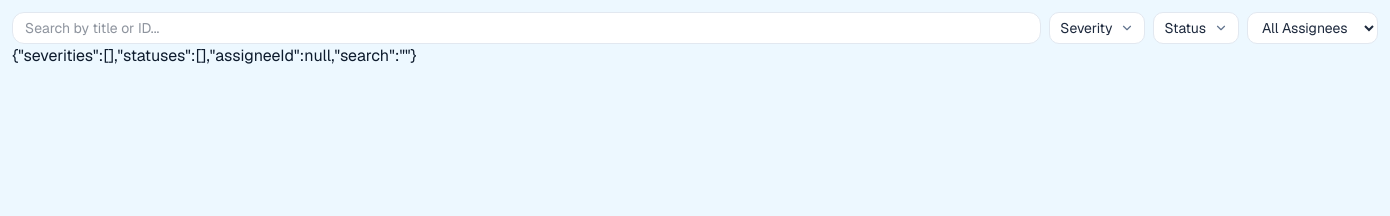
Scenario: IncidentFilters › toggles severity and clears filters
Click the button "Severity" at (1097, 28), box [1049,12,1145,44]
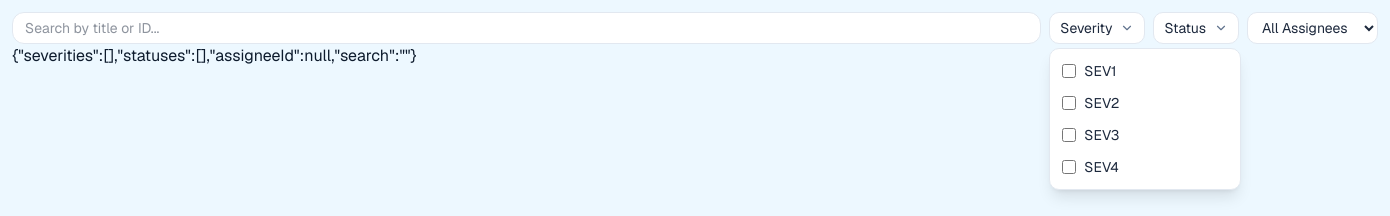
Click the checkbox labelled "SEV1" at (1069, 71), box [1062,64,1076,78]
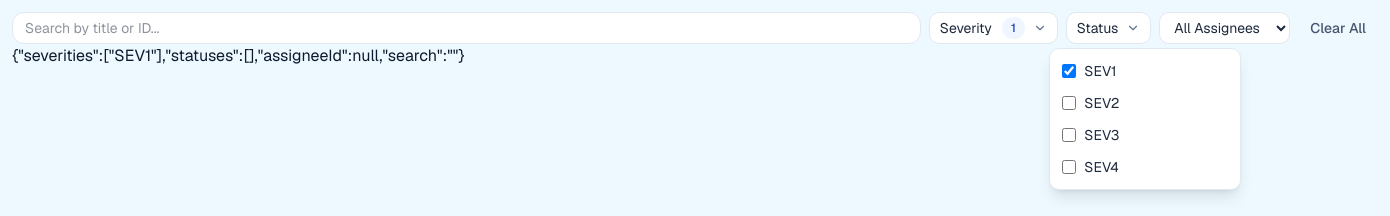
Expected: the button "Clear All" is shown
Click the button "Clear All" at (1338, 28), box [1298,12,1378,44]
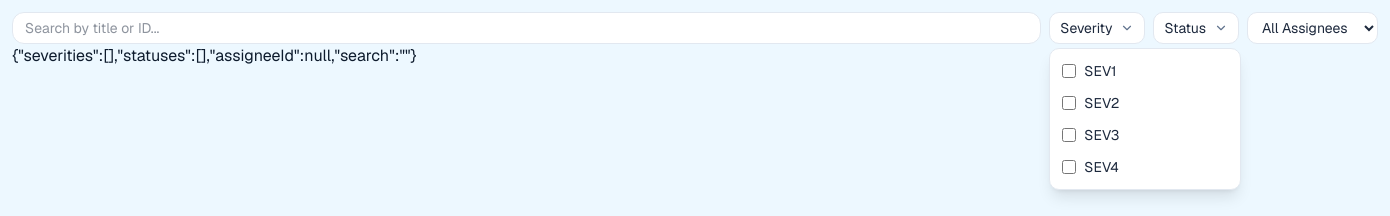
Expected: the button "Clear All" is gone
